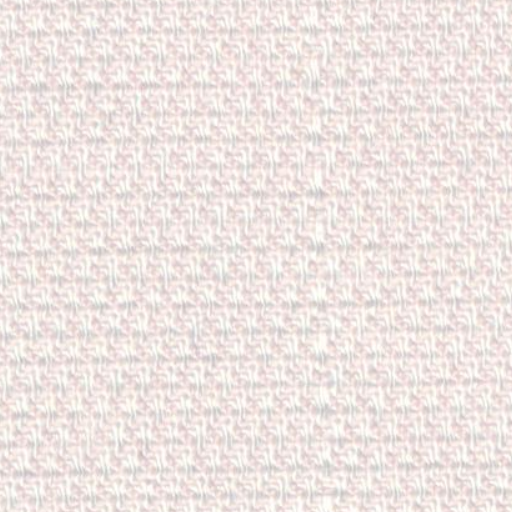TuoSha: (260, 14, 398, 484)
